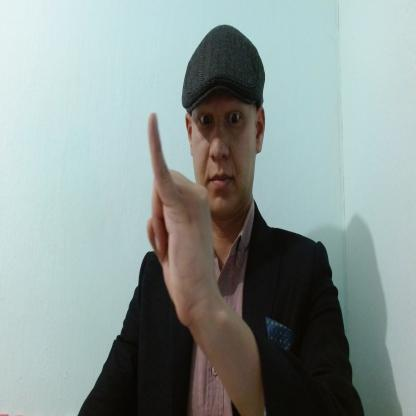I: (146, 113, 216, 327)
